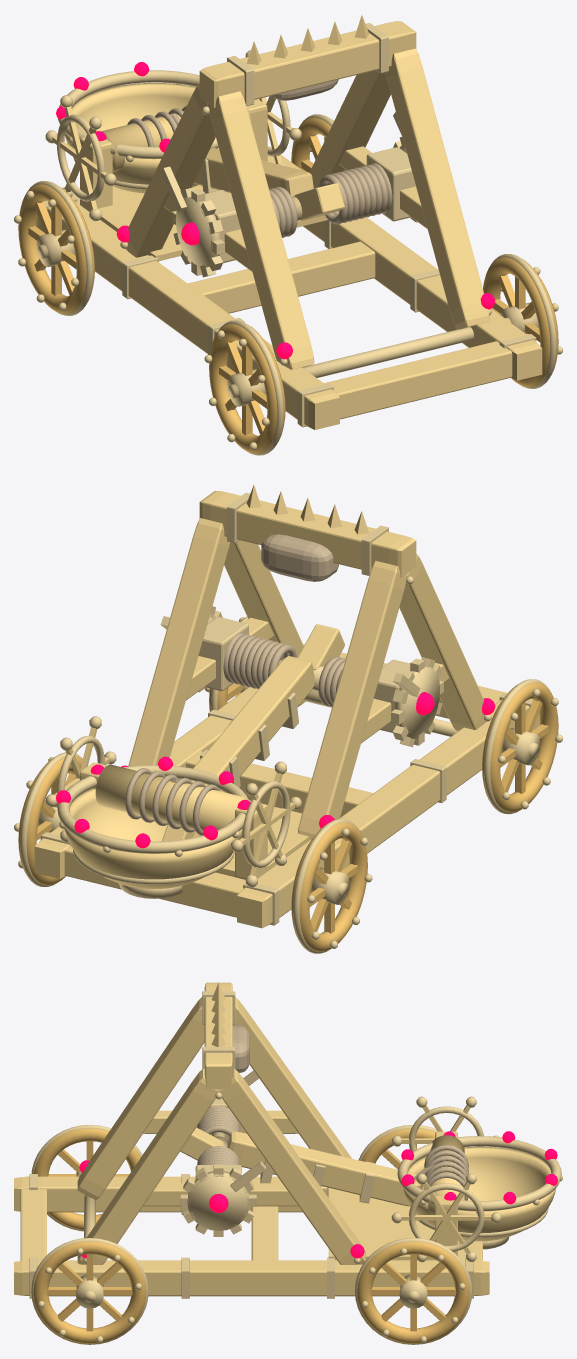
Rendered from dm_catapultgold.glb.
3 renders of one model, top to bottom at view 1: azimuth 30°, elevation 25°; view 2: azimuth 150°, elevation 25°; view 3: azimuth 270°, elevation 25°, orthographic. The views are drawn at different scales.
Parts seen in each view (by area): view 1: Base_Foil_FrameFront.001, Base_Foil_FrameFront, Base_Foil_Rail, Base_Foil_Rail.001, Base_Foil_StopBar, Base_Foil_CrossBeam, Base_Foil_FrameBack, Base_Foil_CrossBeam.001, Arm_Foil_Bucket, Base_Foil_FrameBack.001, Base_Foil_WheelRim.001, Base_Foil_WheelRim (+23 smaller); view 2: Base_Foil_FrameBack, Base_Foil_Rail, Base_Foil_FrameBack.001, Arm_Foil_Bucket, Base_Foil_StopBar, Base_Foil_FrameFront, Arm_Foil_ArmBeam, Base_Foil_WinchDrum, Base_Foil_FrameFront.001, Arm_Metal_BucketRim, Base_Foil_WheelRim, Base_Foil_WheelRim.001 (+23 smaller); view 3: Base_Foil_Rail.001, Base_Foil_FrameBack.001, Base_Foil_FrameFront, Base_Foil_FrameFront.001, Arm_Foil_Bucket, Base_Foil_FrameBack, Base_Foil_WheelRim.002, Base_Foil_WheelRim.003, Arm_Foil_ArmBeam, Base_Foil_Rail, Arm_Metal_BucketRim, Base_Metal_Ratchet.001 (+24 smaller).
Part boxes in pixels (<box>): Base_Foil_FrameFront.001: <box>385,48,489,329</box>; Base_Foil_FrameFront: <box>208,91,314,369</box>; Base_Foil_Rail: <box>36,200,339,429</box>; Base_Foil_Rail.001: <box>267,146,542,380</box>; Base_Foil_StopBar: <box>199,21,416,107</box>; Base_Foil_CrossBeam: <box>324,341,512,419</box>; Base_Foil_FrameBack: <box>126,84,215,257</box>; Base_Foil_CrossBeam.001: <box>188,241,375,313</box>; Arm_Foil_Bucket: <box>65,82,218,193</box>; Base_Foil_FrameBack.001: <box>309,70,390,188</box>; Base_Foil_WheelRim.001: <box>18,184,94,313</box>; Base_Foil_WheelRim: <box>209,324,285,453</box>; Base_Foil_FrameBack: <box>298,560,407,839</box>; Base_Foil_Rail: <box>237,699,540,928</box>; Base_Foil_FrameBack.001: <box>128,518,230,766</box>; Arm_Foil_Bucket: <box>64,779,242,888</box>; Base_Foil_StopBar: <box>199,491,416,577</box>; Base_Foil_FrameFront: <box>399,554,486,731</box>; Arm_Foil_ArmBeam: <box>190,656,314,785</box>; Base_Foil_WinchDrum: <box>95,764,248,830</box>; Base_Foil_FrameFront.001: <box>224,540,303,656</box>; Arm_Metal_BucketRim: <box>57,765,247,853</box>; Base_Foil_WheelRim: <box>482,682,558,812</box>; Base_Foil_WheelRim.001: <box>291,822,367,951</box>; Base_Foil_Rail.001: <box>14,1260,489,1296</box>; Base_Foil_FrameBack.001: <box>219,1068,366,1264</box>; Base_Foil_FrameFront: <box>77,997,204,1200</box>; Base_Foil_FrameFront.001: <box>77,1068,218,1264</box>; Arm_Foil_Bucket: <box>403,1146,555,1241</box>; Base_Foil_FrameBack: <box>233,997,351,1158</box>; Base_Foil_WheelRim.002: <box>33,1241,146,1343</box>; Base_Foil_WheelRim.003: <box>357,1241,469,1343</box>; Arm_Foil_ArmBeam: <box>227,1131,419,1206</box>; Base_Foil_Rail: <box>14,1176,326,1212</box>; Arm_Metal_BucketRim: <box>397,1136,561,1211</box>; Base_Metal_Ratchet.001: <box>187,1171,249,1230</box>.
Size of the model in its own units: 9 by 9.48 by 16.62.
